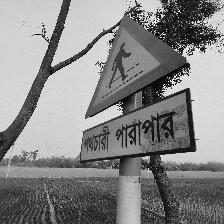Pedestrian-crossing: (80, 14, 196, 164)
